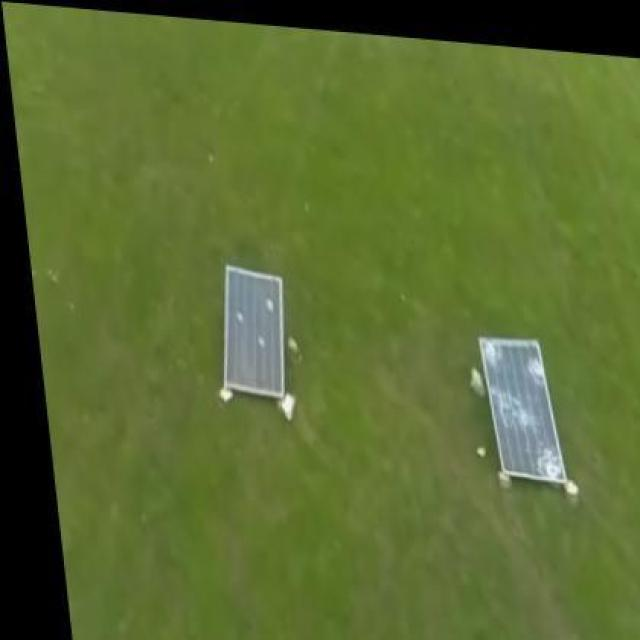cracked: (480, 332, 567, 483)
soiled: (218, 265, 288, 399)
